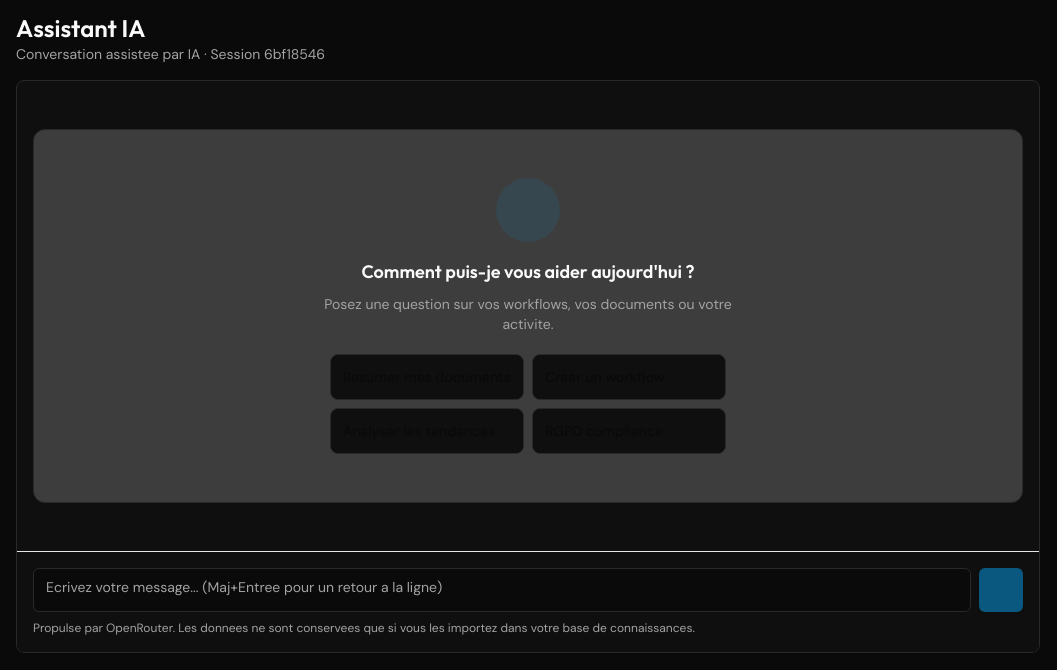
Test: Chat page › shows the backend error message when the request fails
Type "Hello AI" into the text box with placeholder "Ecrivez votre message" at coordinates (502, 590), box top-left (33, 568), bottom-right (971, 612)
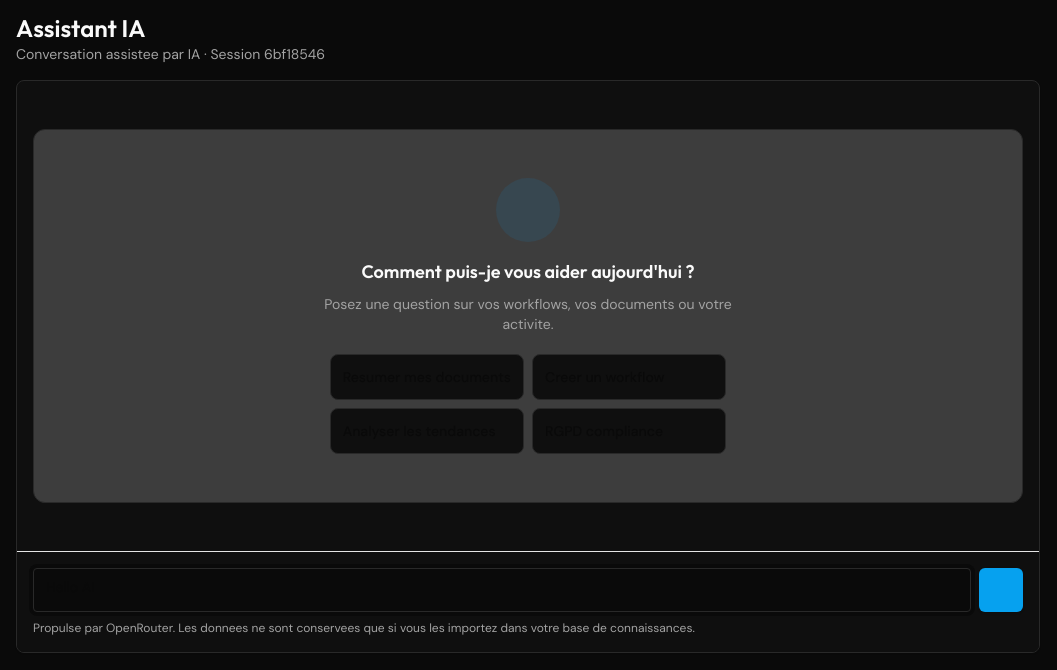
Click the button named "Envoyer le message" at coordinates (1001, 590), box top-left (979, 568), bottom-right (1023, 612)
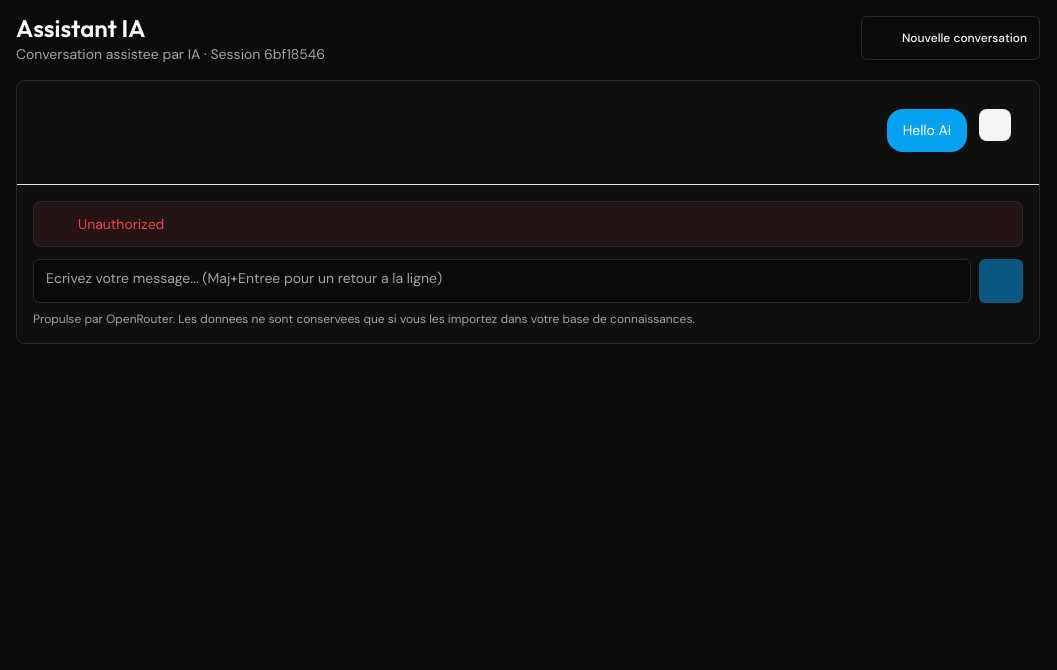
expect the message reads "Unauthorized": met, box top-left (78, 215), bottom-right (164, 233)
